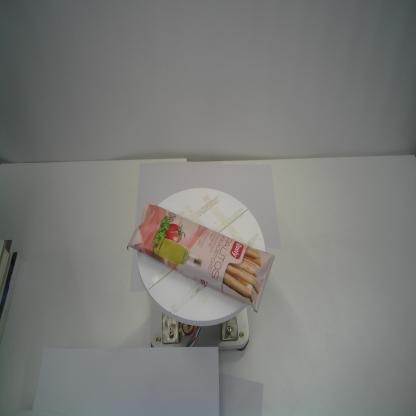Dessert: (123, 201, 273, 315)
